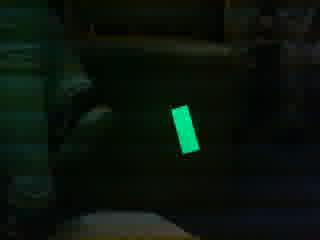target: (62, 101, 201, 155)
